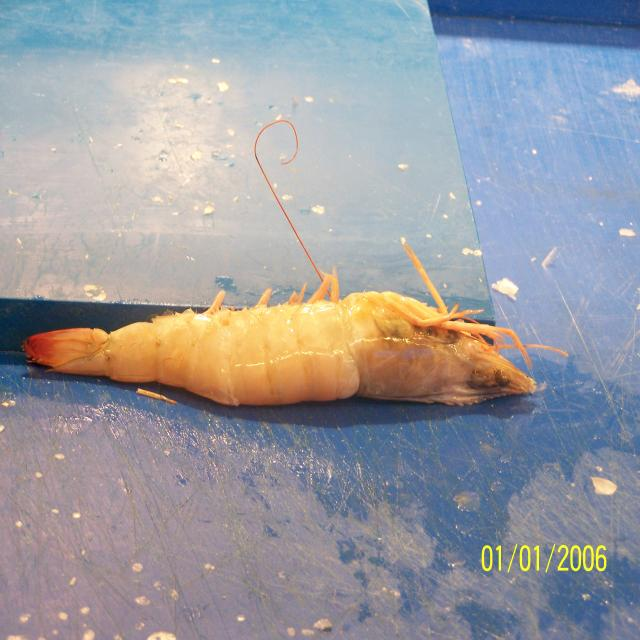Shrimp-karides-: (22, 291, 539, 409)
